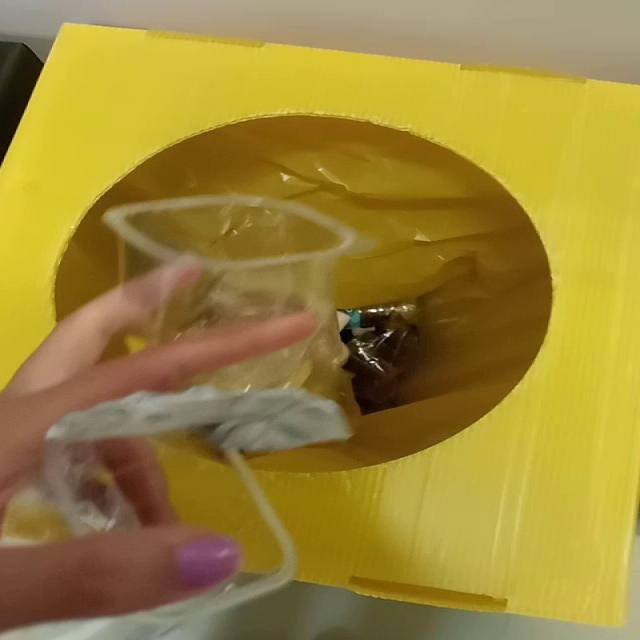plastic: (103, 195, 355, 404)
